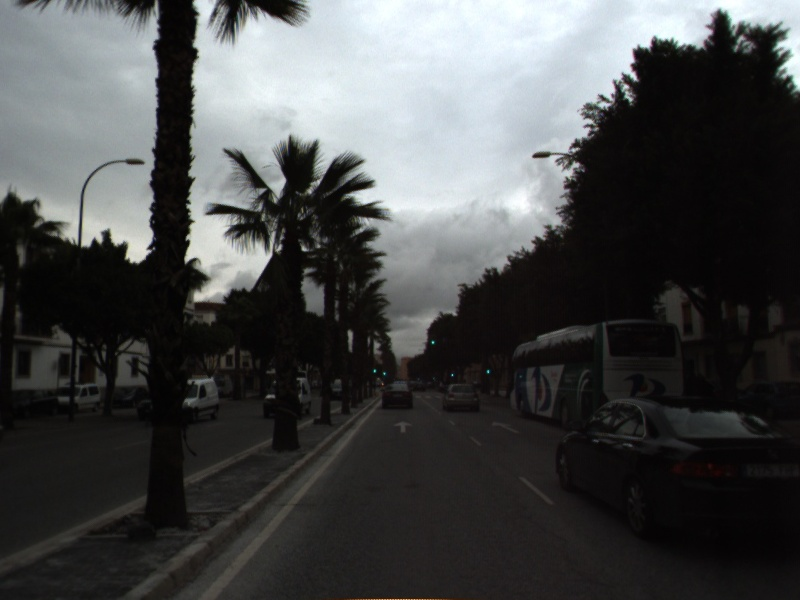STRAIGHT: (490, 419, 522, 435), (391, 419, 415, 434)
